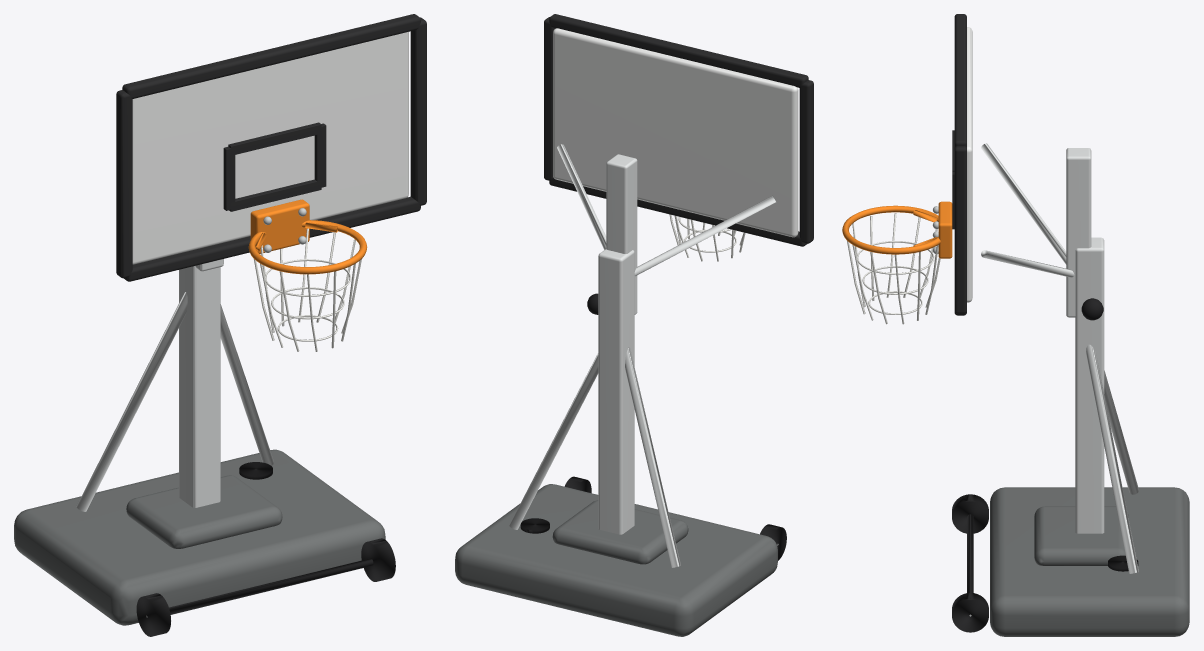
Rendered from Basketballkorb_mobil_3D.glb.
The picture shows the model from 3 angles, left to right: view 1: azimuth 30°, elevation 25°; view 2: azimuth 150°, elevation 25°; view 3: azimuth 270°, elevation 25°; orthographic projection. The views are drawn at different scales.
Parts seen in each view (by area): view 1: Basketballkorb_mobil_3D__web_white_backboard_panel, Basketballkorb_mobil_3D__web_dark_grey_weighted_plastic_base, Basketballkorb_mobil_3D__web_black_backboard_target_and_corn, Basketballkorb_mobil_3D__web_brushed_aluminum_support_tubes, Basketballkorb_mobil_3D__web_black_rubber_wheels_and_caps, Basketballkorb_mobil_3D__web_orange_powder_coated_rim, Basketballkorb_mobil_3D__web_white_braided_hoop_net; view 2: Basketballkorb_mobil_3D__web_white_backboard_panel, Basketballkorb_mobil_3D__web_dark_grey_weighted_plastic_base, Basketballkorb_mobil_3D__web_brushed_aluminum_support_tubes, Basketballkorb_mobil_3D__web_black_backboard_target_and_corn, Basketballkorb_mobil_3D__web_black_rubber_wheels_and_caps, Basketballkorb_mobil_3D__web_white_braided_hoop_net; view 3: Basketballkorb_mobil_3D__web_dark_grey_weighted_plastic_base, Basketballkorb_mobil_3D__web_brushed_aluminum_support_tubes, Basketballkorb_mobil_3D__web_black_backboard_target_and_corn, Basketballkorb_mobil_3D__web_black_rubber_wheels_and_caps, Basketballkorb_mobil_3D__web_white_braided_hoop_net, Basketballkorb_mobil_3D__web_orange_powder_coated_rim, Basketballkorb_mobil_3D__web_white_backboard_panel.
Boxes of the visible parts, x1,y1,x2,y2 form: Basketballkorb_mobil_3D__web_white_backboard_panel: (132, 31, 408, 264); Basketballkorb_mobil_3D__web_dark_grey_weighted_plastic_base: (14, 449, 385, 625); Basketballkorb_mobil_3D__web_black_backboard_target_and_corn: (116, 14, 426, 281); Basketballkorb_mobil_3D__web_brushed_aluminum_support_tubes: (76, 259, 273, 511); Basketballkorb_mobil_3D__web_black_rubber_wheels_and_caps: (136, 462, 395, 636); Basketballkorb_mobil_3D__web_orange_powder_coated_rim: (248, 199, 367, 274); Basketballkorb_mobil_3D__web_white_braided_hoop_net: (253, 228, 361, 351); Basketballkorb_mobil_3D__web_white_backboard_panel: (553, 28, 798, 237); Basketballkorb_mobil_3D__web_dark_grey_weighted_plastic_base: (455, 484, 777, 636); Basketballkorb_mobil_3D__web_brushed_aluminum_support_tubes: (509, 144, 775, 567); Basketballkorb_mobil_3D__web_black_backboard_target_and_corn: (544, 14, 813, 246); Basketballkorb_mobil_3D__web_black_rubber_wheels_and_caps: (520, 293, 786, 560); Basketballkorb_mobil_3D__web_white_braided_hoop_net: (669, 214, 745, 261); Basketballkorb_mobil_3D__web_dark_grey_weighted_plastic_base: (990, 487, 1189, 636); Basketballkorb_mobil_3D__web_brushed_aluminum_support_tubes: (981, 143, 1138, 573); Basketballkorb_mobil_3D__web_black_backboard_target_and_corn: (952, 14, 966, 315); Basketballkorb_mobil_3D__web_black_rubber_wheels_and_caps: (952, 298, 1138, 632); Basketballkorb_mobil_3D__web_white_braided_hoop_net: (847, 213, 940, 324); Basketballkorb_mobil_3D__web_orange_powder_coated_rim: (842, 201, 952, 258); Basketballkorb_mobil_3D__web_white_backboard_panel: (967, 27, 972, 302).
Bounding box in the file's own units: 1.14 × 2.01 × 1.25.
